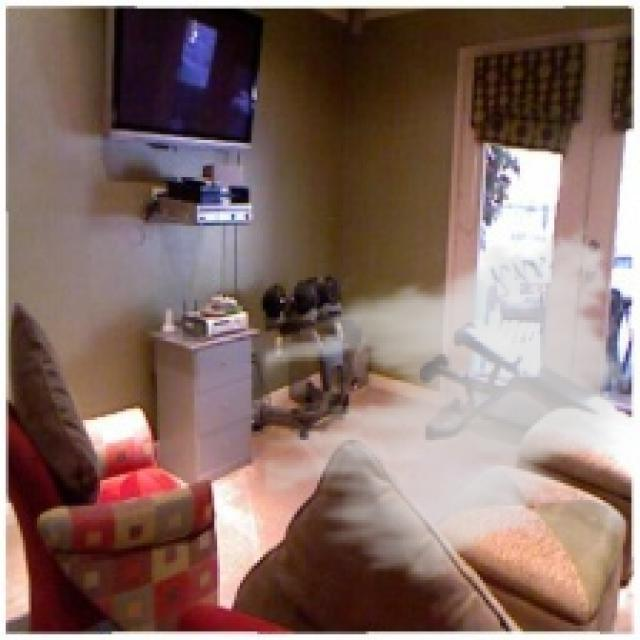Smoke: (262, 217, 638, 594)
